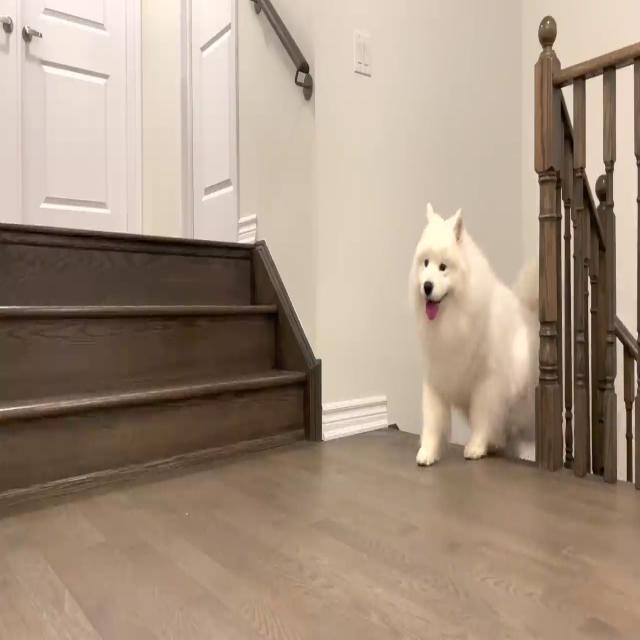Dog: (408, 203, 546, 467)
